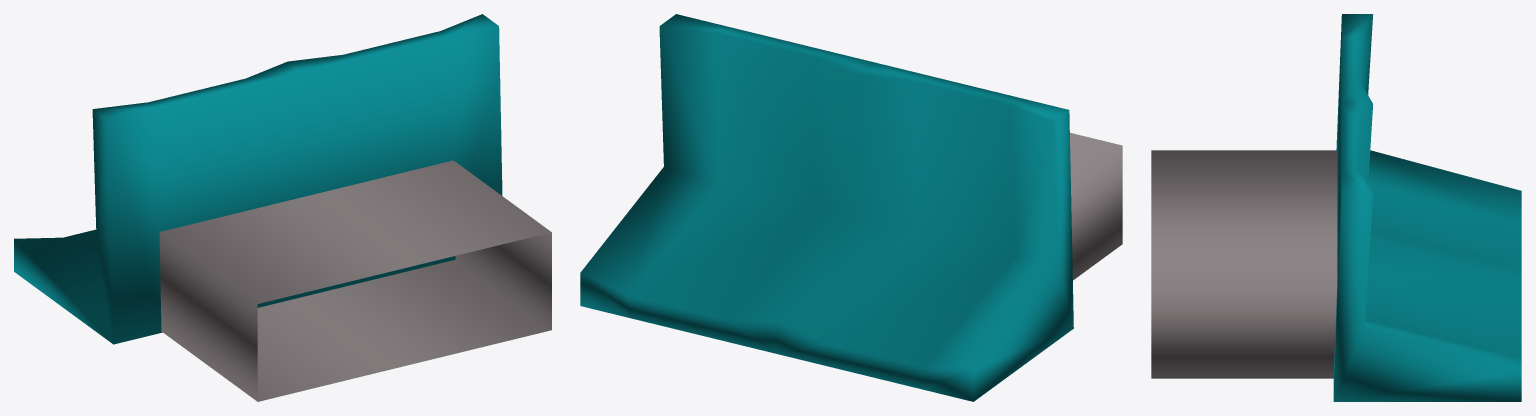
Rendered from Bench_02.fbx.
3 views of the same model, side by side, from view 1: azimuth 30°, elevation 25°; view 2: azimuth 150°, elevation 25°; view 3: azimuth 270°, elevation 25° (orthographic). The views are drawn at different scales.
Parts seen in each view (by area): view 1: SubwayBench_02_low; view 2: SubwayBench_02_low; view 3: SubwayBench_02_low.
Part boxes in pixels (x1,y1,x2,y2): SubwayBench_02_low: (14,14,551,401); SubwayBench_02_low: (580,14,1122,401); SubwayBench_02_low: (1151,14,1521,401).
Bounding box in the file's own units: 1.02 × 0.55 × 0.8869.
